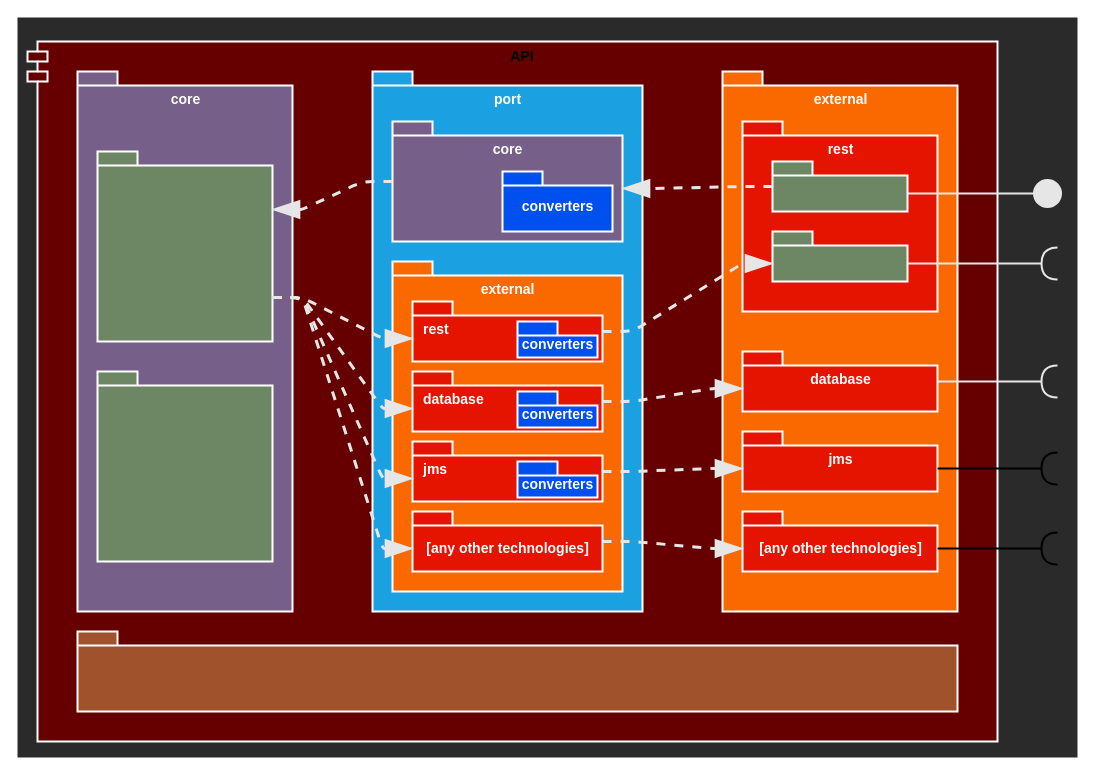
The diagram is 1094 pixels wide and 774 high, and some of its shapes have lost their labels. Each missing label, with the centre of its shape:
"clients" goes at (x=839, y=256).
"configurations" goes at (x=517, y=671).
"controllers" goes at (x=839, y=186).
"models" goes at (x=184, y=466).
"services" goes at (x=184, y=246).
